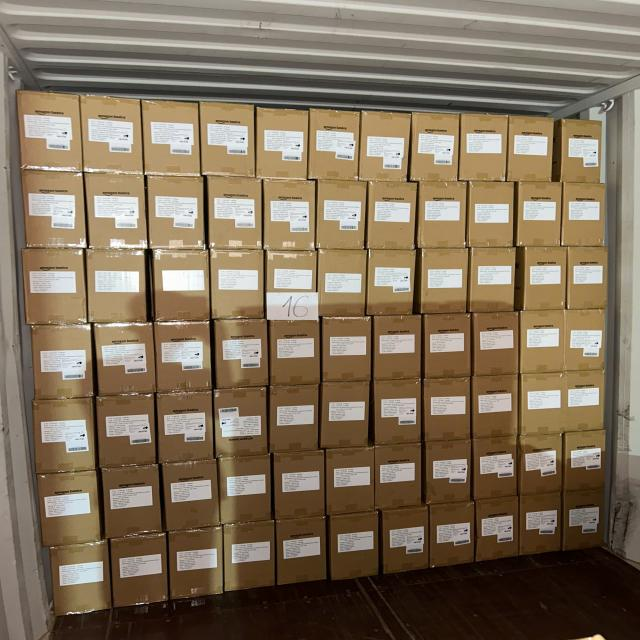Carton: (19, 89, 85, 175), (19, 173, 85, 251), (23, 250, 89, 328), (80, 95, 142, 176), (88, 171, 150, 250), (37, 471, 100, 547), (34, 396, 96, 472), (32, 326, 94, 402), (85, 248, 146, 325), (97, 322, 159, 396), (103, 463, 163, 537), (142, 101, 198, 180), (200, 103, 256, 181), (51, 538, 110, 612), (153, 250, 211, 324), (98, 394, 156, 468), (147, 174, 204, 249), (206, 174, 262, 250), (159, 393, 216, 467), (113, 535, 170, 608), (165, 460, 221, 533), (158, 319, 214, 391), (170, 526, 225, 598), (257, 105, 309, 180), (212, 316, 266, 388), (210, 251, 264, 323), (225, 522, 277, 595), (265, 178, 316, 251), (359, 108, 409, 182), (265, 252, 316, 324), (310, 107, 360, 180), (274, 450, 326, 520), (319, 178, 369, 250), (215, 388, 267, 457), (268, 383, 319, 453), (217, 458, 269, 526), (318, 250, 368, 320), (267, 321, 319, 388), (330, 511, 379, 581), (276, 520, 326, 588), (322, 382, 372, 450), (326, 447, 374, 517), (411, 110, 458, 181), (366, 182, 415, 250), (461, 111, 508, 181), (371, 314, 420, 381), (323, 317, 372, 384), (379, 508, 426, 577), (366, 250, 415, 316), (420, 247, 468, 314), (418, 183, 466, 250), (373, 444, 421, 511), (372, 381, 421, 446), (510, 115, 557, 182), (470, 247, 518, 312), (424, 314, 472, 378), (423, 378, 471, 442), (470, 181, 516, 247), (472, 312, 519, 376), (473, 376, 520, 439), (430, 504, 474, 570), (520, 183, 564, 249), (476, 496, 520, 562), (424, 441, 470, 504), (562, 182, 607, 246), (474, 436, 519, 499), (523, 311, 567, 374), (565, 430, 609, 493), (518, 434, 562, 497), (559, 118, 602, 182), (563, 490, 607, 552), (522, 371, 565, 434), (564, 368, 606, 432), (526, 247, 568, 310), (565, 311, 606, 374), (524, 495, 564, 559), (566, 247, 606, 309)
